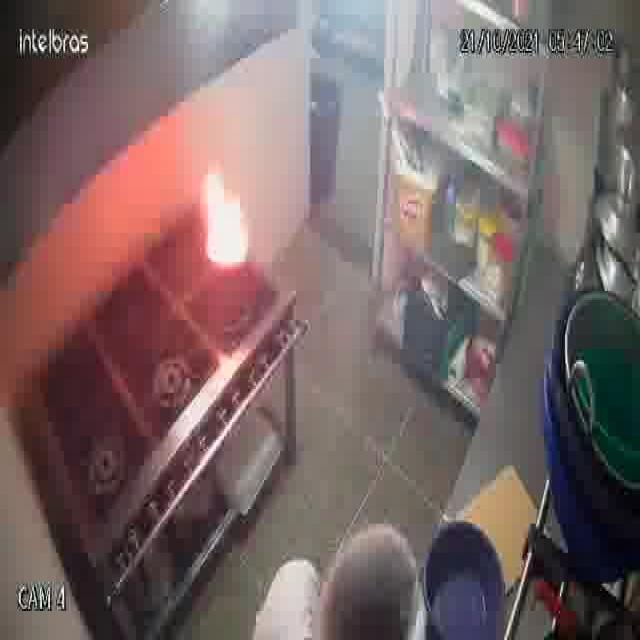Fire: (180, 138, 280, 329)
